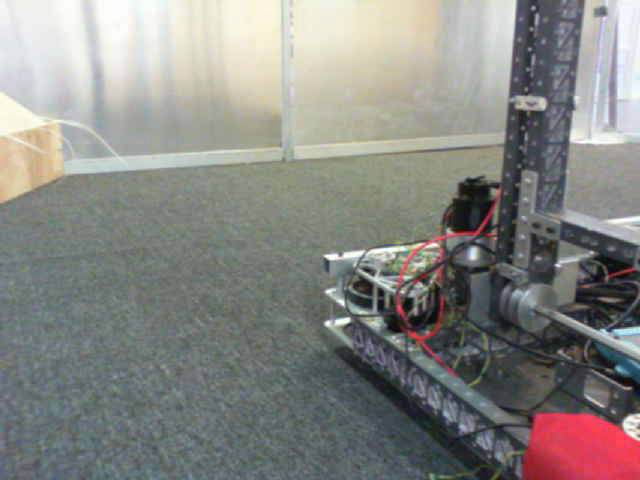Robot: (325, 148, 639, 468)
